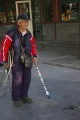male: (14, 13, 33, 36)
